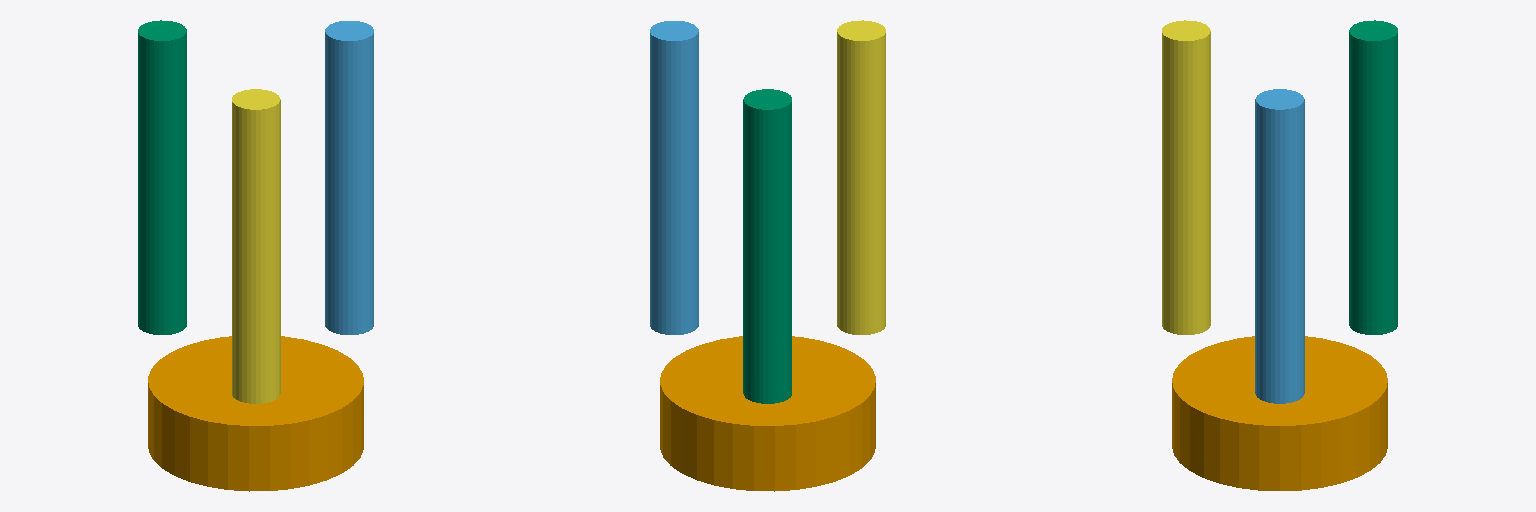
URDF robot description (Hook_Gripper_-_Surgical_-_Soft_Objects):
<?xml version="1.0"?>
<robot name="Hook_Gripper_-_Surgical_-_Soft_Objects">

    <link name="palm_link">
        <visual>
            <geometry>
                <cylinder radius="0.0150" length="0.0100"/>
            </geometry>
        </visual>
        <collision>
            <geometry>
                <cylinder radius="0.0150" length="0.0100"/>
            </geometry>
        </collision>
    </link>

    
    <link name="finger_0_link">
        <visual>
            <geometry>
                <cylinder radius="0.0034" length="0.0450"/>
            </geometry>
            <origin xyz="0 0 0.0225"/>
        </visual>
        <collision>
            <geometry>
                <cylinder radius="0.0034" length="0.0450"/>
            </geometry>
            <origin xyz="0 0 0.0225"/>
        </collision>
    </link>

    <joint name="finger_0_joint" type="revolute">
        <parent link="palm_link"/>
        <child link="finger_0_link"/>
        <origin xyz="0.0150 0.0000 0.0100" rpy="0 0 0.0000"/>
        <axis xyz="0 1 0"/>
        <limit lower="-1.57" upper="1.57" effort="10" velocity="1"/>
    </joint>

    <link name="finger_1_link">
        <visual>
            <geometry>
                <cylinder radius="0.0034" length="0.0450"/>
            </geometry>
            <origin xyz="0 0 0.0225"/>
        </visual>
        <collision>
            <geometry>
                <cylinder radius="0.0034" length="0.0450"/>
            </geometry>
            <origin xyz="0 0 0.0225"/>
        </collision>
    </link>

    <joint name="finger_1_joint" type="revolute">
        <parent link="palm_link"/>
        <child link="finger_1_link"/>
        <origin xyz="-0.0075 0.0130 0.0100" rpy="0 0 2.0944"/>
        <axis xyz="0 1 0"/>
        <limit lower="-1.57" upper="1.57" effort="10" velocity="1"/>
    </joint>

    <link name="finger_2_link">
        <visual>
            <geometry>
                <cylinder radius="0.0034" length="0.0450"/>
            </geometry>
            <origin xyz="0 0 0.0225"/>
        </visual>
        <collision>
            <geometry>
                <cylinder radius="0.0034" length="0.0450"/>
            </geometry>
            <origin xyz="0 0 0.0225"/>
        </collision>
    </link>

    <joint name="finger_2_joint" type="revolute">
        <parent link="palm_link"/>
        <child link="finger_2_link"/>
        <origin xyz="-0.0075 -0.0130 0.0100" rpy="0 0 4.1888"/>
        <axis xyz="0 1 0"/>
        <limit lower="-1.57" upper="1.57" effort="10" velocity="1"/>
    </joint>

</robot>

--- Render facts (derived) ---
The picture shows the robot from 3 angles, left to right: view 1: azimuth 30°, elevation 25°; view 2: azimuth 150°, elevation 25°; view 3: azimuth 270°, elevation 25°; orthographic projection.
Robot: Hook_Gripper_-_Surgical_-_Soft_Objects — 4 links, 3 joints (3 revolute); root link palm_link; default pose: all joints at 0.
Visible links, largest first — view 1: palm_link, finger_2_link, finger_1_link, finger_0_link; view 2: palm_link, finger_1_link, finger_2_link, finger_0_link; view 3: palm_link, finger_0_link, finger_1_link, finger_2_link.
Boxes of the visible links, x1,y1,x2,y2 form: palm_link: [148, 336, 363, 491]; finger_2_link: [232, 89, 280, 403]; finger_1_link: [138, 20, 186, 334]; finger_0_link: [325, 21, 373, 334]; palm_link: [660, 336, 875, 491]; finger_1_link: [743, 89, 791, 403]; finger_2_link: [837, 20, 885, 334]; finger_0_link: [650, 21, 698, 334]; palm_link: [1172, 336, 1387, 490]; finger_0_link: [1255, 89, 1304, 403]; finger_1_link: [1349, 20, 1397, 334]; finger_2_link: [1162, 20, 1210, 334].
Bounding box of the posed robot: 0.0334 × 0.0328 × 0.06 m (x, y, z).
Geometry: primitives only (box / cylinder / sphere), no mesh files.